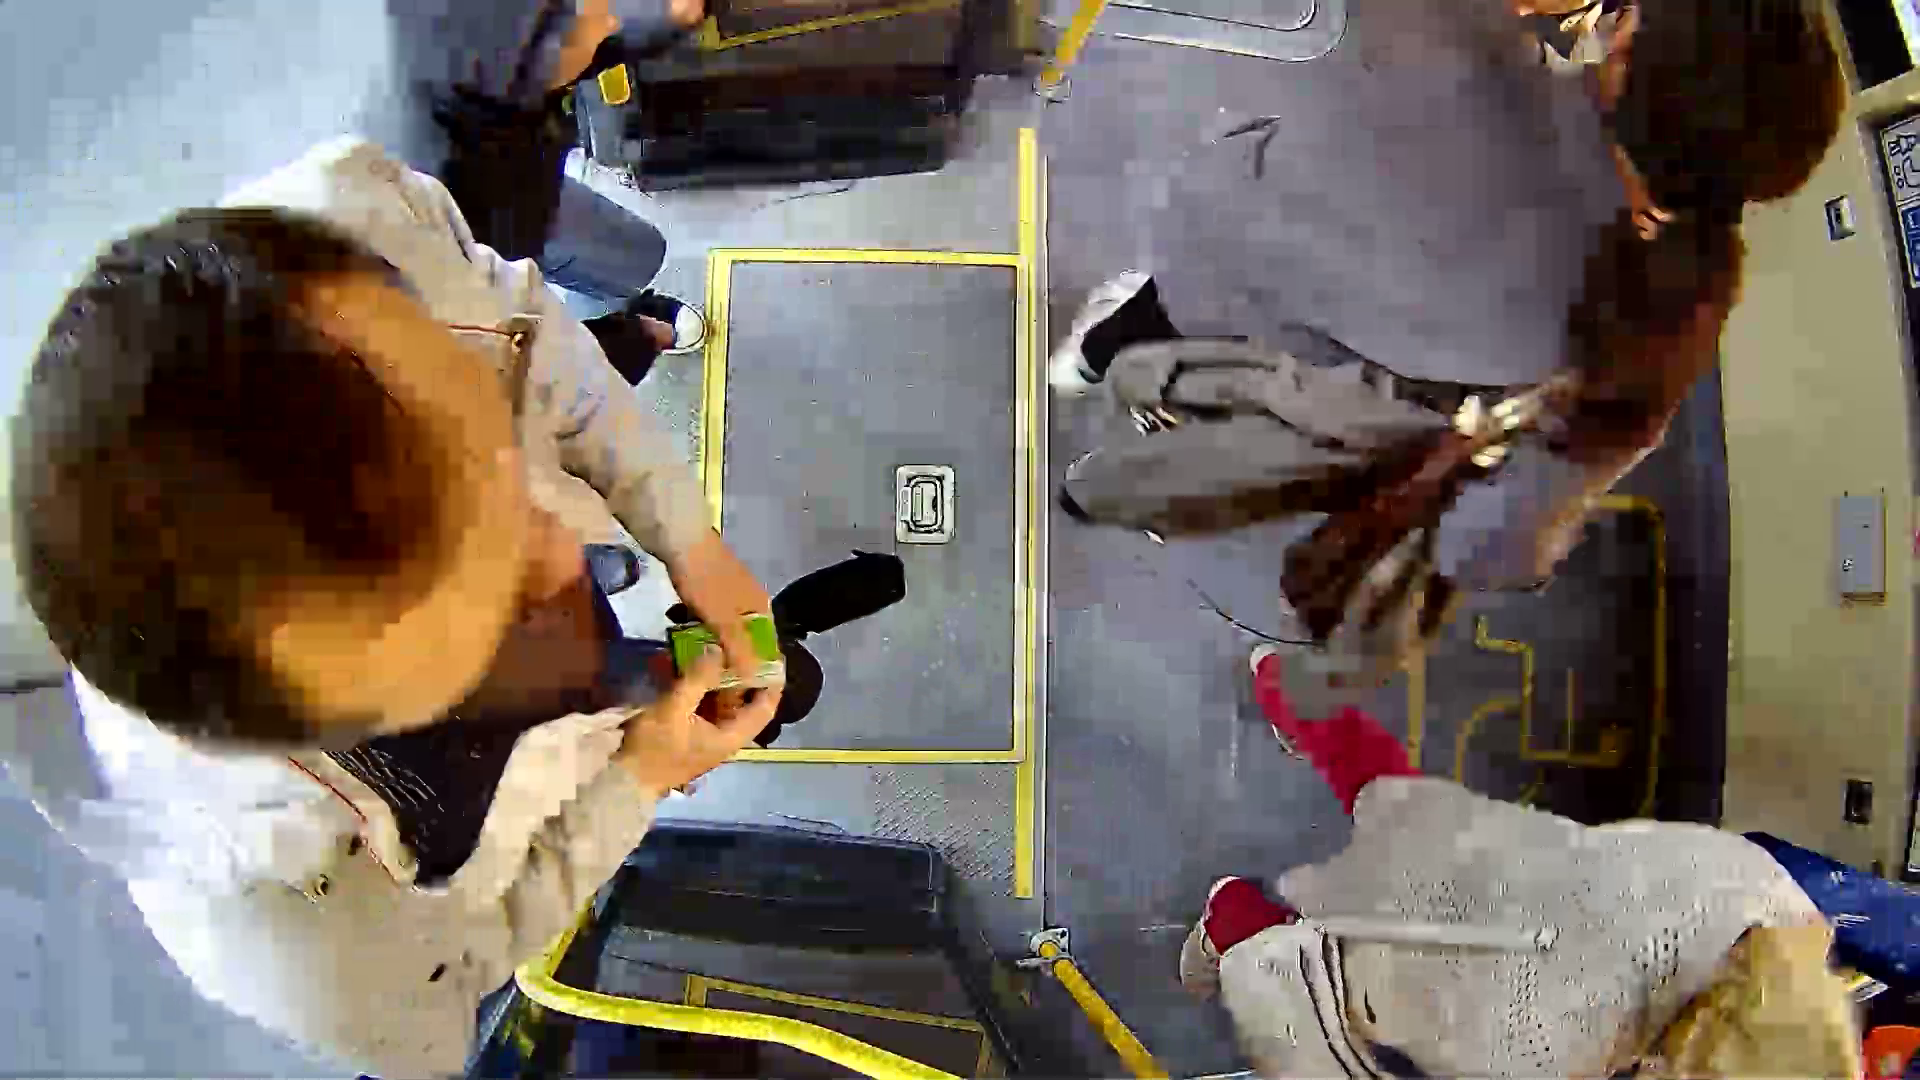person: (39, 182, 952, 932), (1101, 1, 1787, 636)
